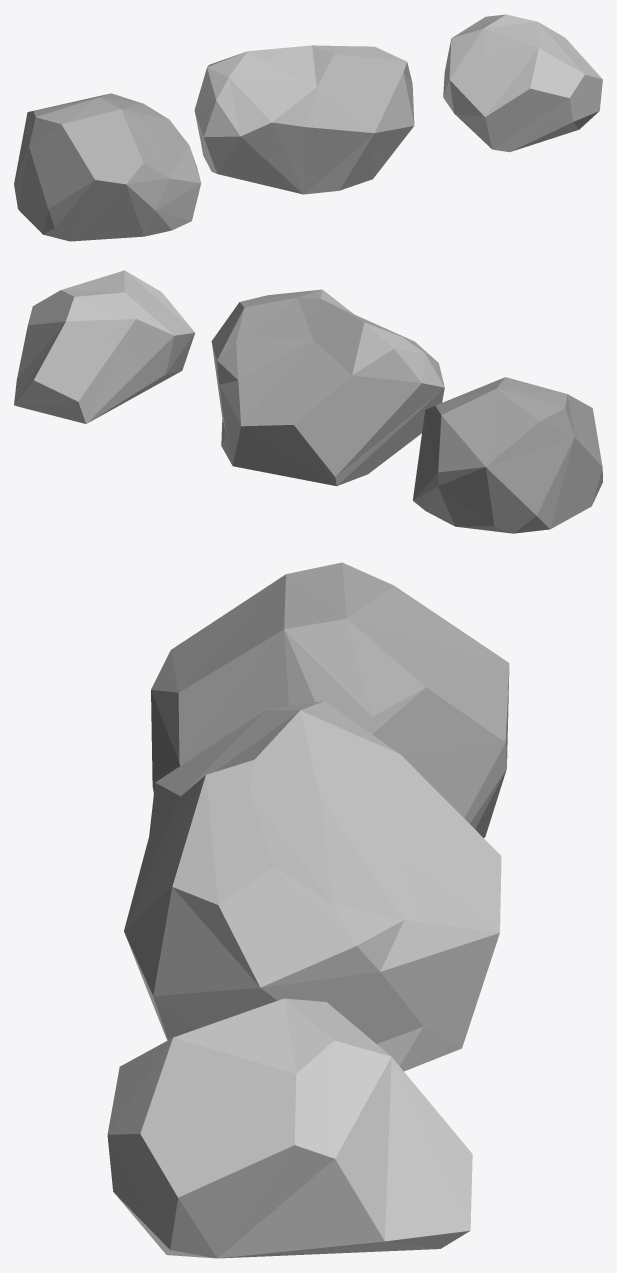
File: FBX_Rock_A.fbx
3 renders of one model, top to bottom at view 1: azimuth 30°, elevation 25°; view 2: azimuth 150°, elevation 25°; view 3: azimuth 270°, elevation 25°, orthographic. The views are drawn at different scales.
Visible parts, largest first — view 1: Rock_A_2, Rock_A_1, Rock_A_3; view 2: Rock_A_2, Rock_A_1, Rock_A_3; view 3: Rock_A_2, Rock_A_3, Rock_A_1.
Part boxes in pixels (<box>): Rock_A_2: <box>194,45,414,194</box>; Rock_A_1: <box>14,93,201,241</box>; Rock_A_3: <box>443,14,602,152</box>; Rock_A_2: <box>211,289,444,486</box>; Rock_A_1: <box>413,377,602,533</box>; Rock_A_3: <box>14,270,194,423</box>; Rock_A_2: <box>124,701,501,1071</box>; Rock_A_3: <box>107,998,472,1258</box>; Rock_A_1: <box>151,562,509,837</box>.
Size of the model in its own units: 683 by 221 by 157.
